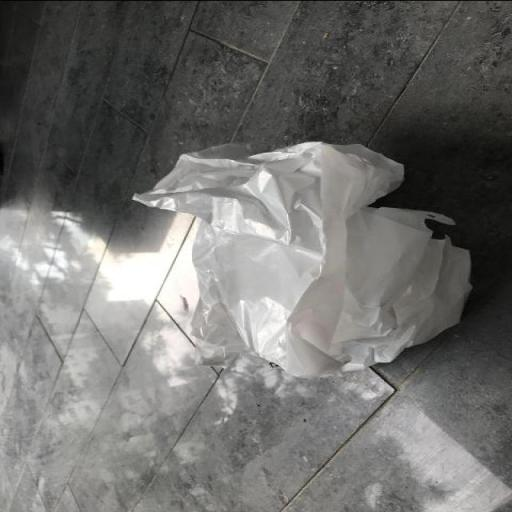plastic-bag: (128, 138, 477, 380)
